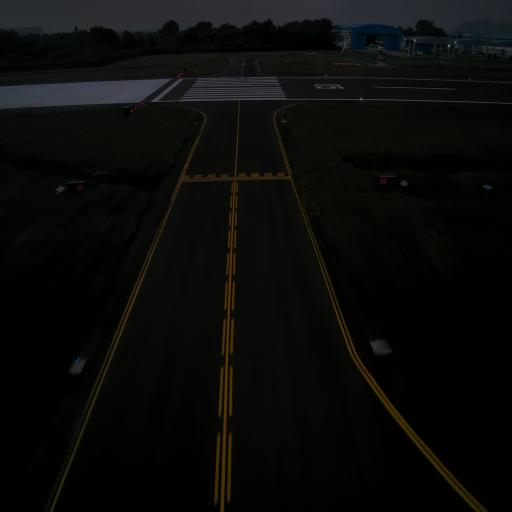on: (374, 336, 382, 348), (75, 353, 82, 366)
